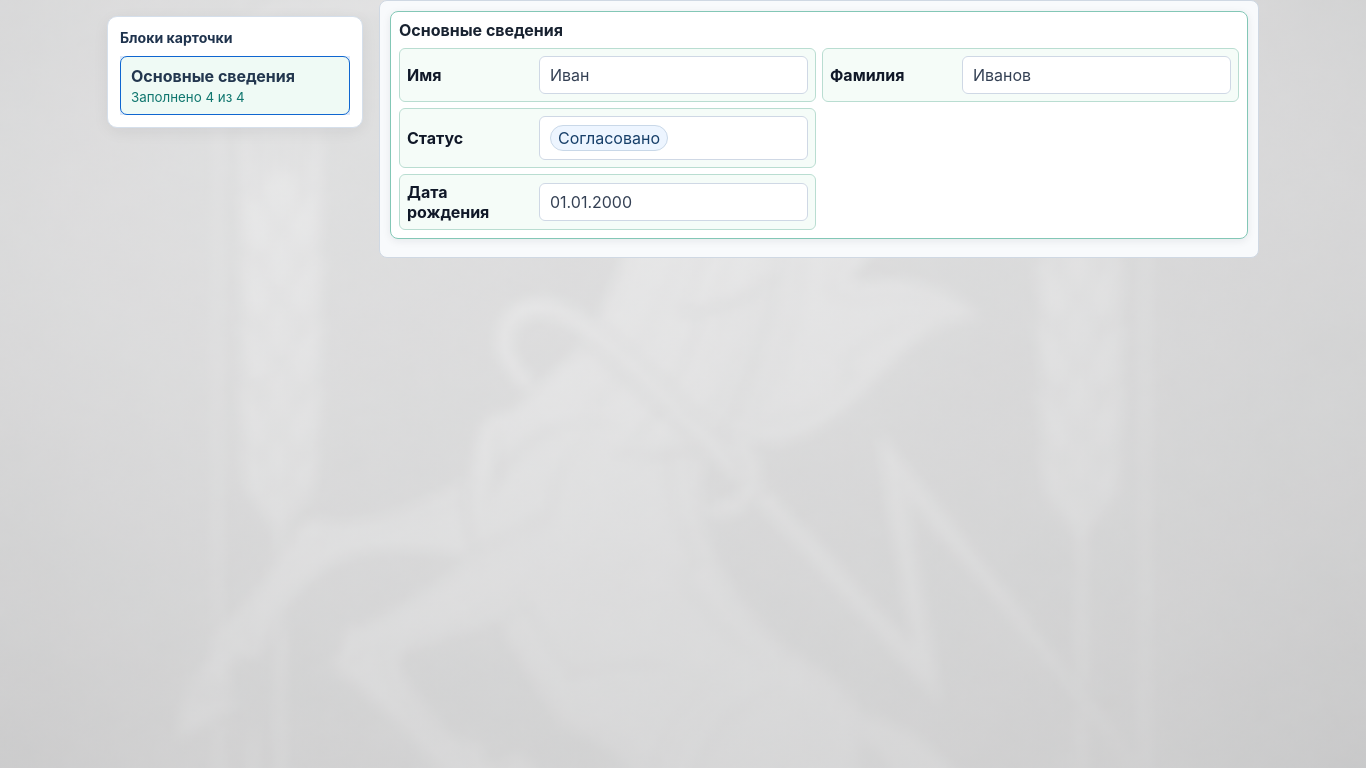
Test: FilledCardLayout › retains active block values and basis on failure and cancels without another request
The image size is (1366, 768).
Click the element with test id "filled-field-layout-first-name" at x=608, y=75, box [399,48,816,102]
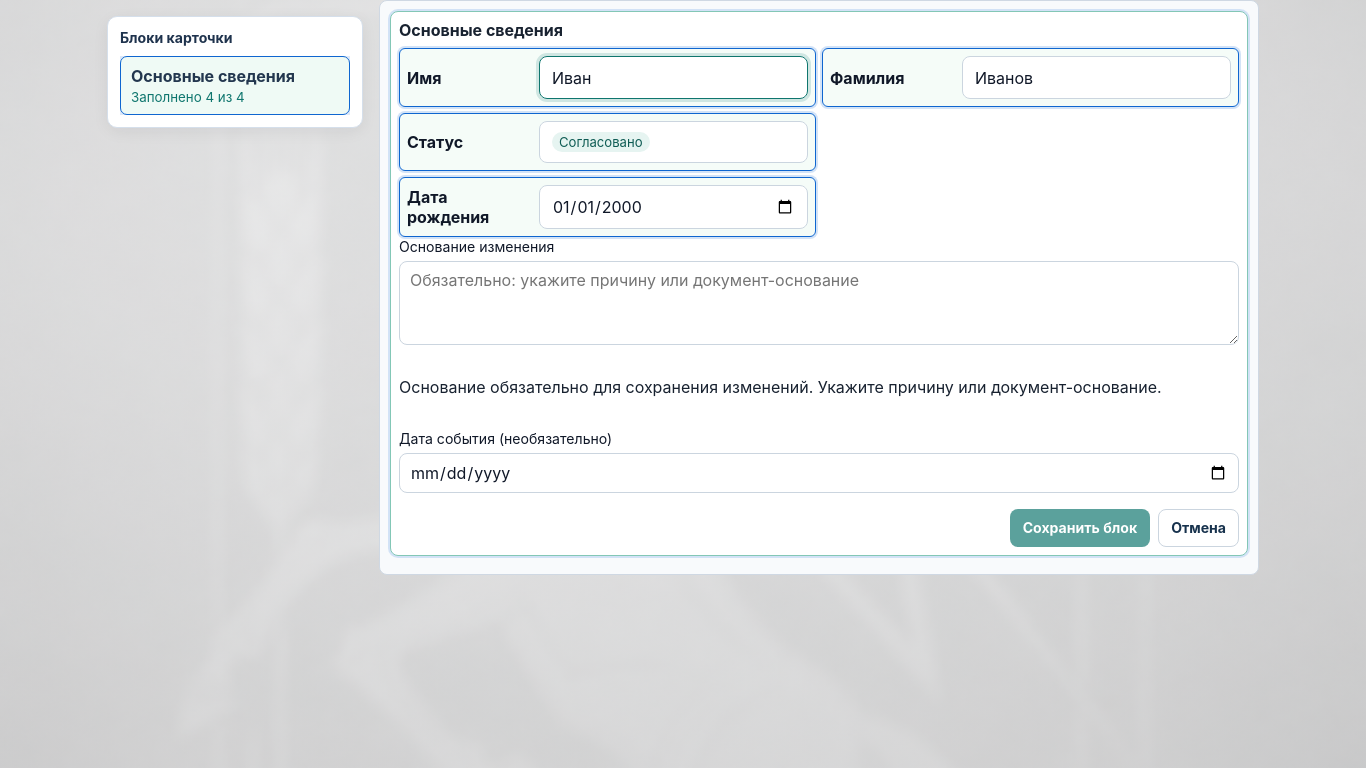
Replace the text in the text box named "Имя" with "Пётр" at x=674, y=78, box [539,56,808,99]
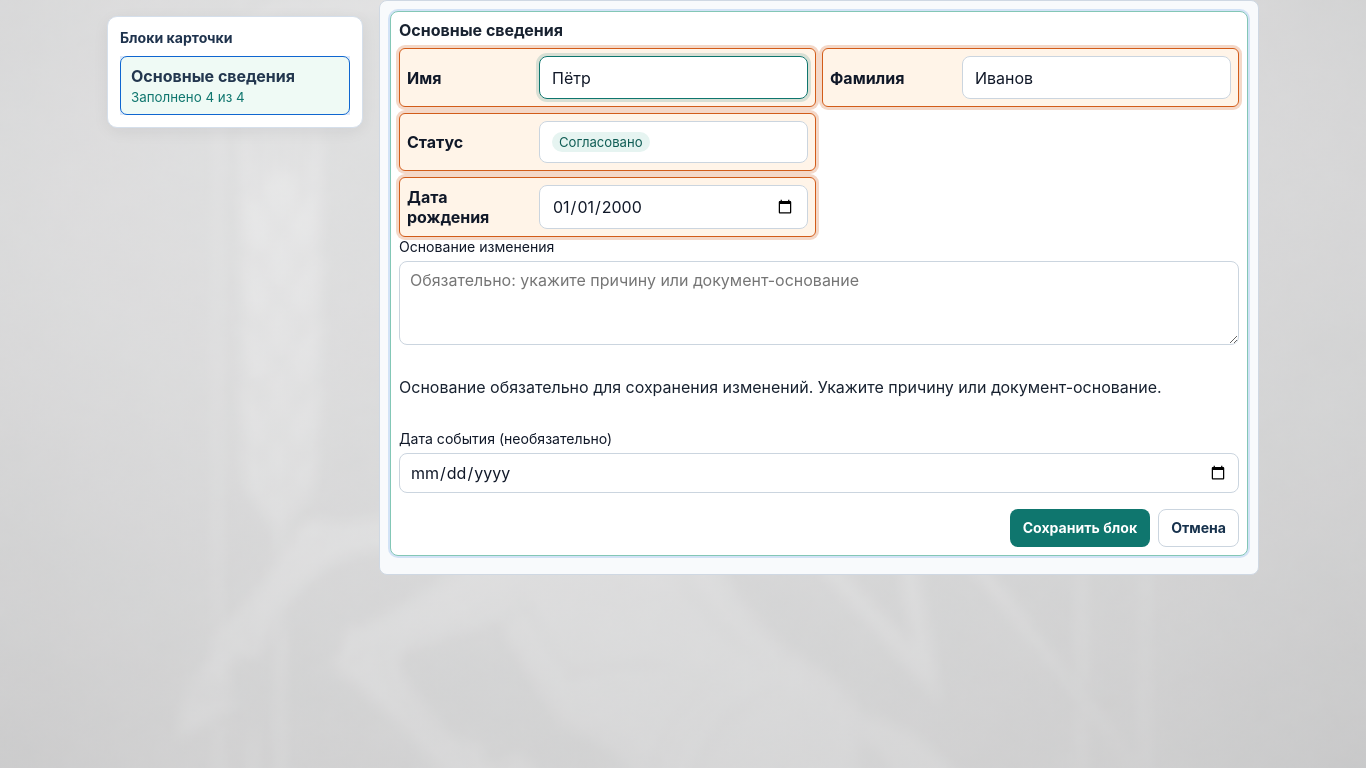
Type "Приказ" into the text box labelled "Основание изменения" at x=819, y=303, box [399,261,1239,345]
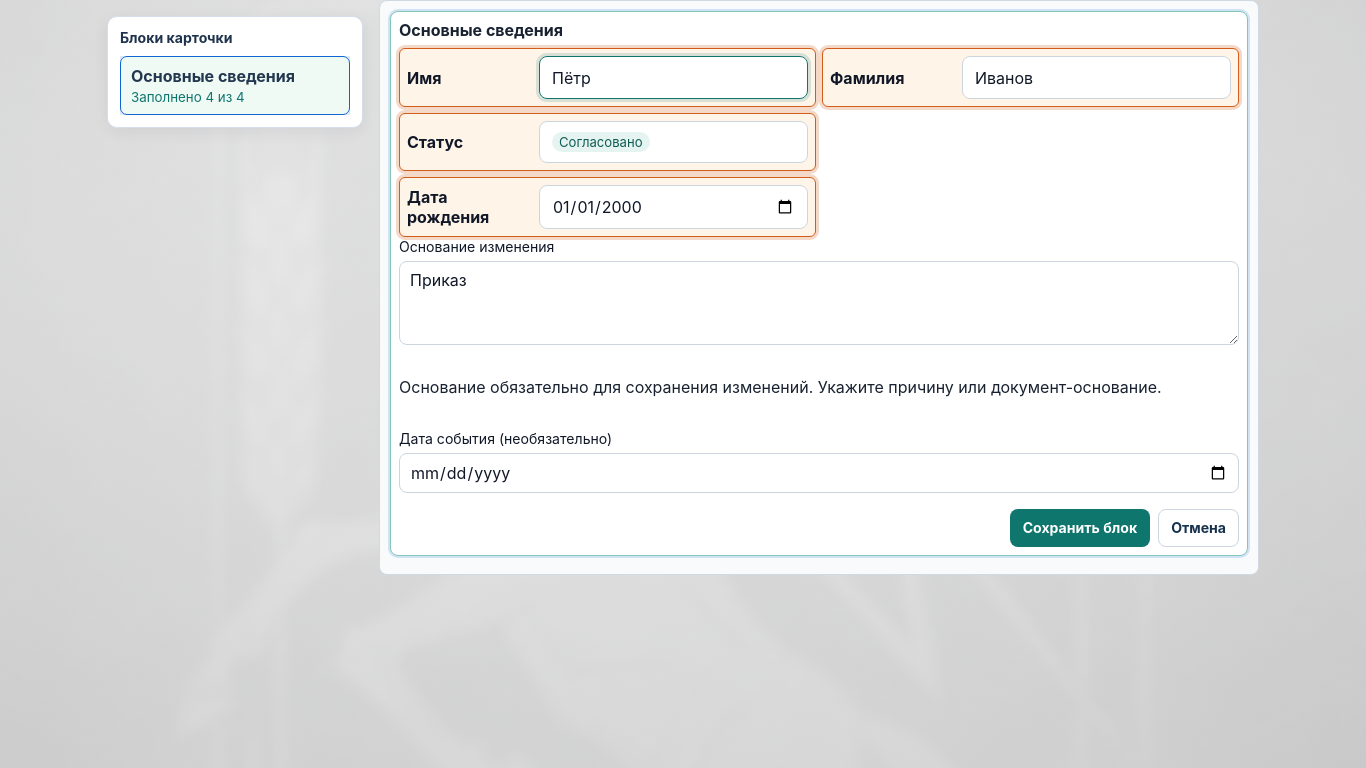
Click the button "Сохранить блок" at x=1080, y=528, box [1010,509,1150,547]
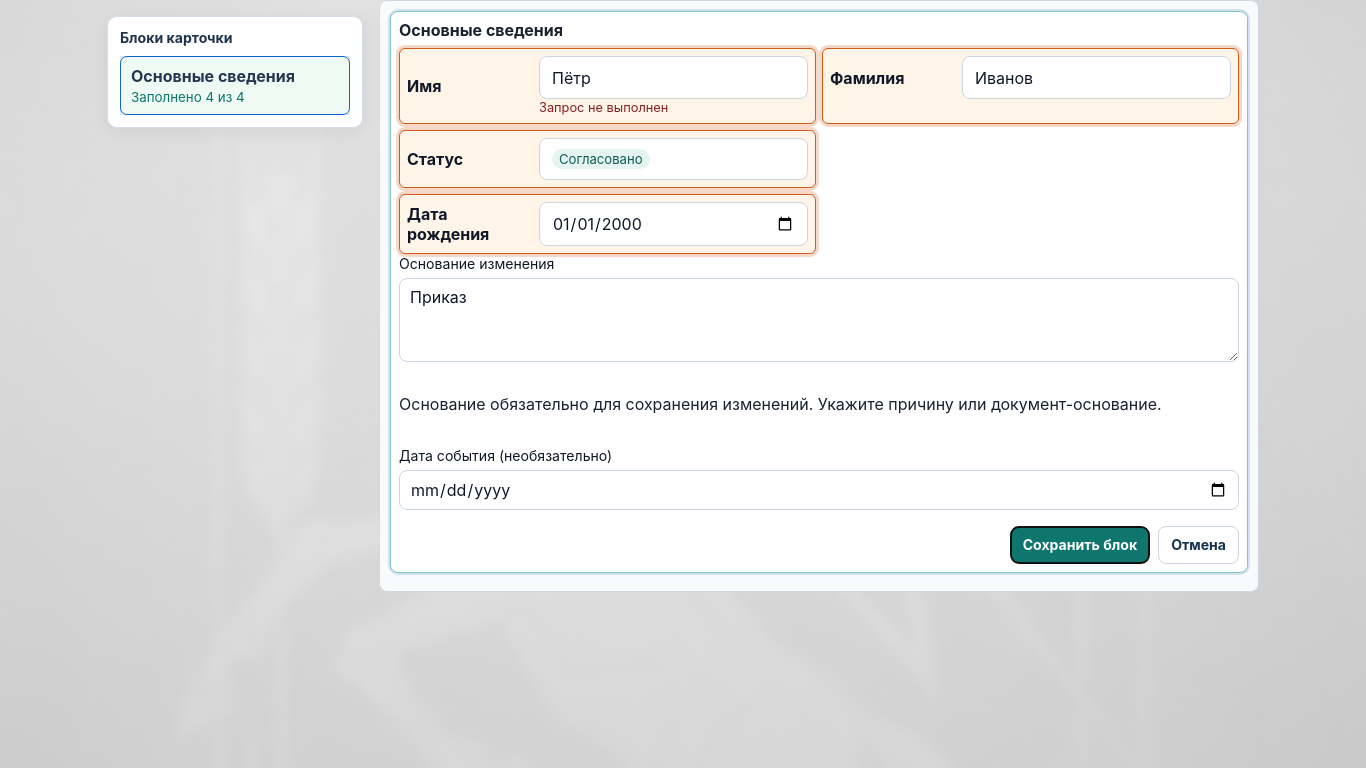
Click the button "Отмена" at x=1199, y=545, box [1158,526,1239,564]
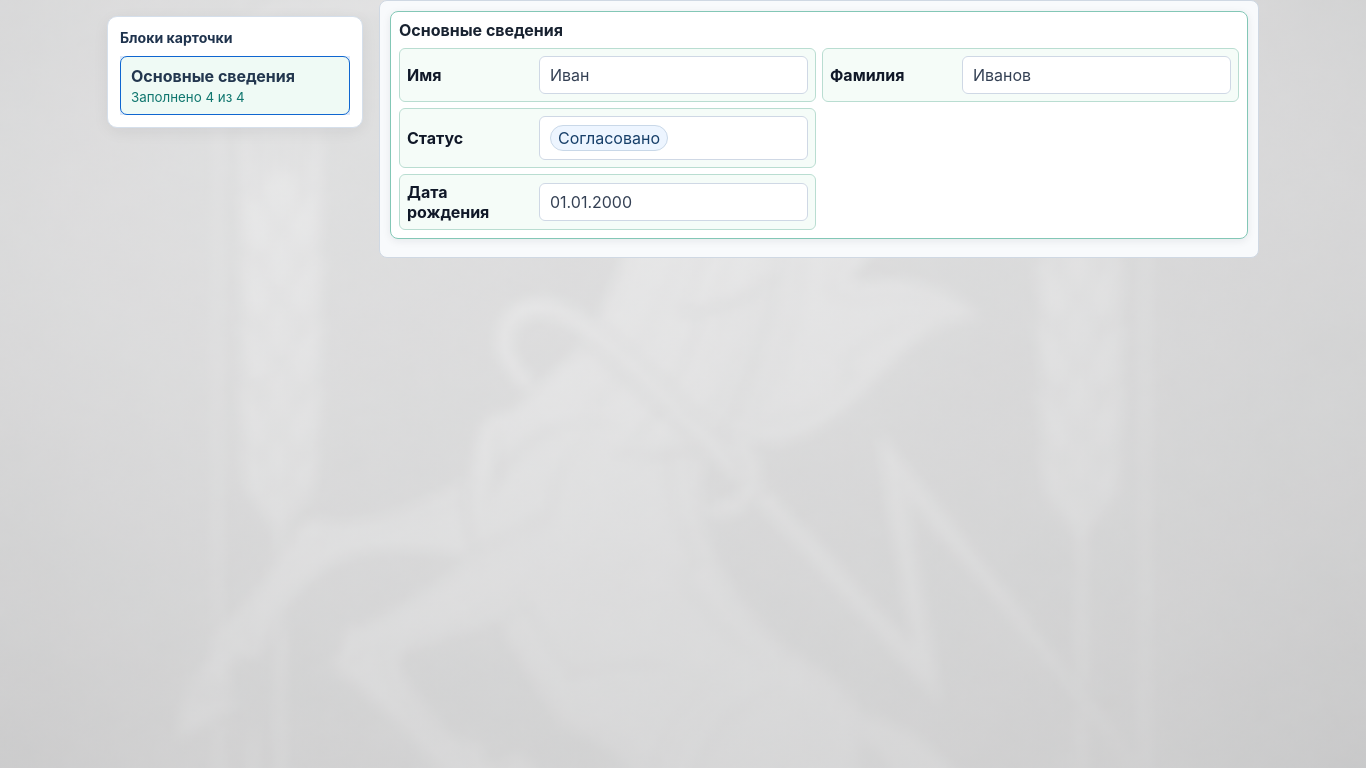
Result: the text labelled "Основание изменения" is gone
